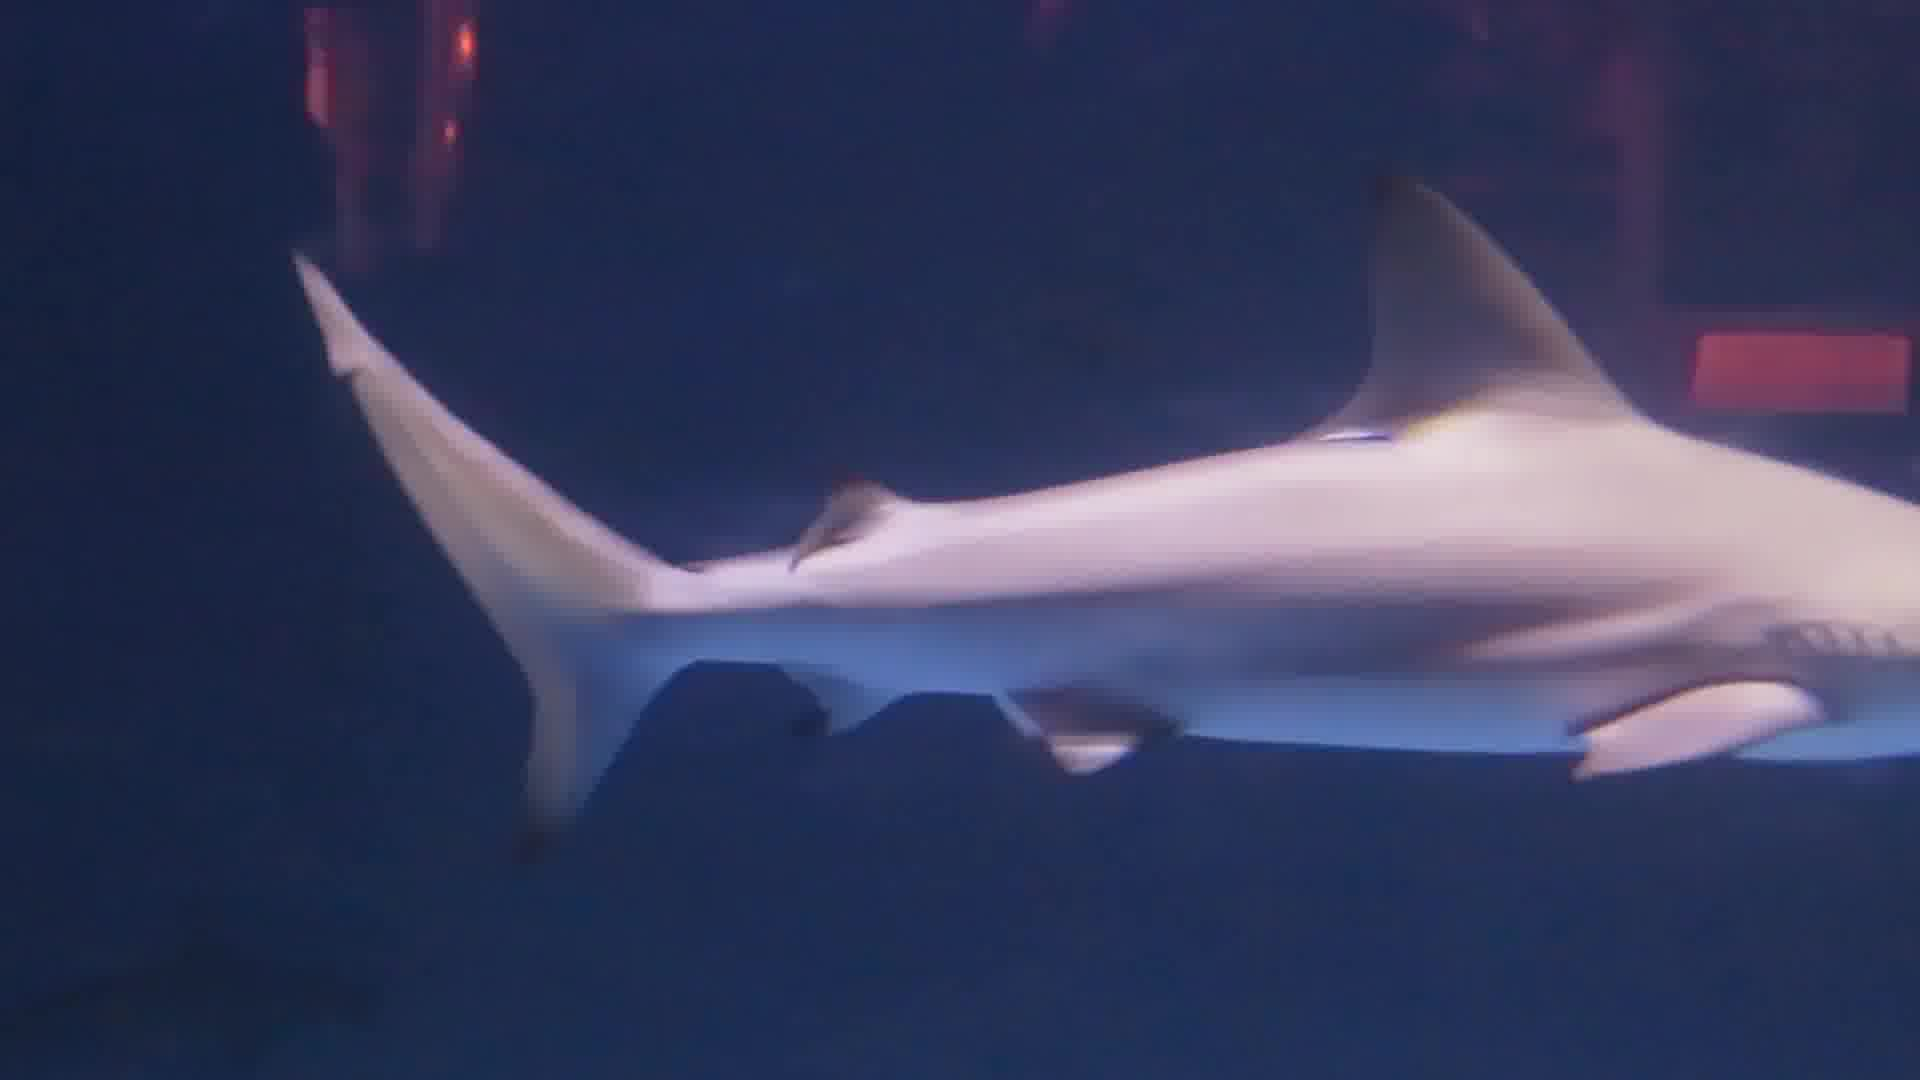Carcharhinus leucas: (303, 152, 1920, 882)
